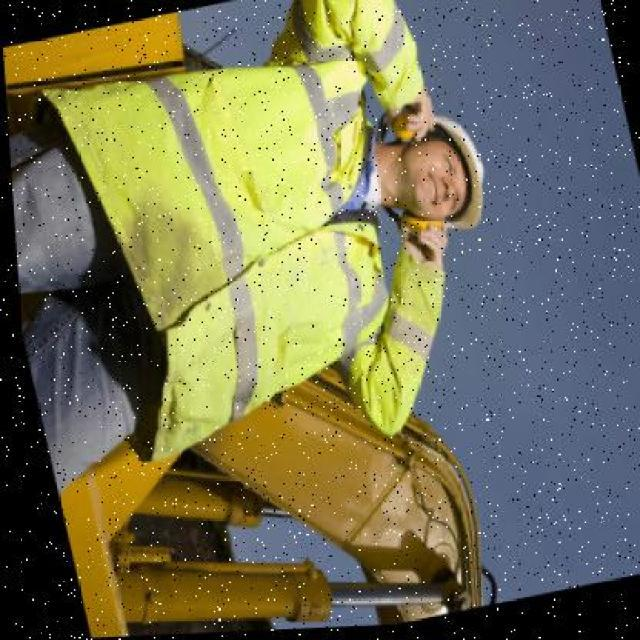helmet: (421, 100, 491, 239)
vest: (69, 0, 441, 439)
